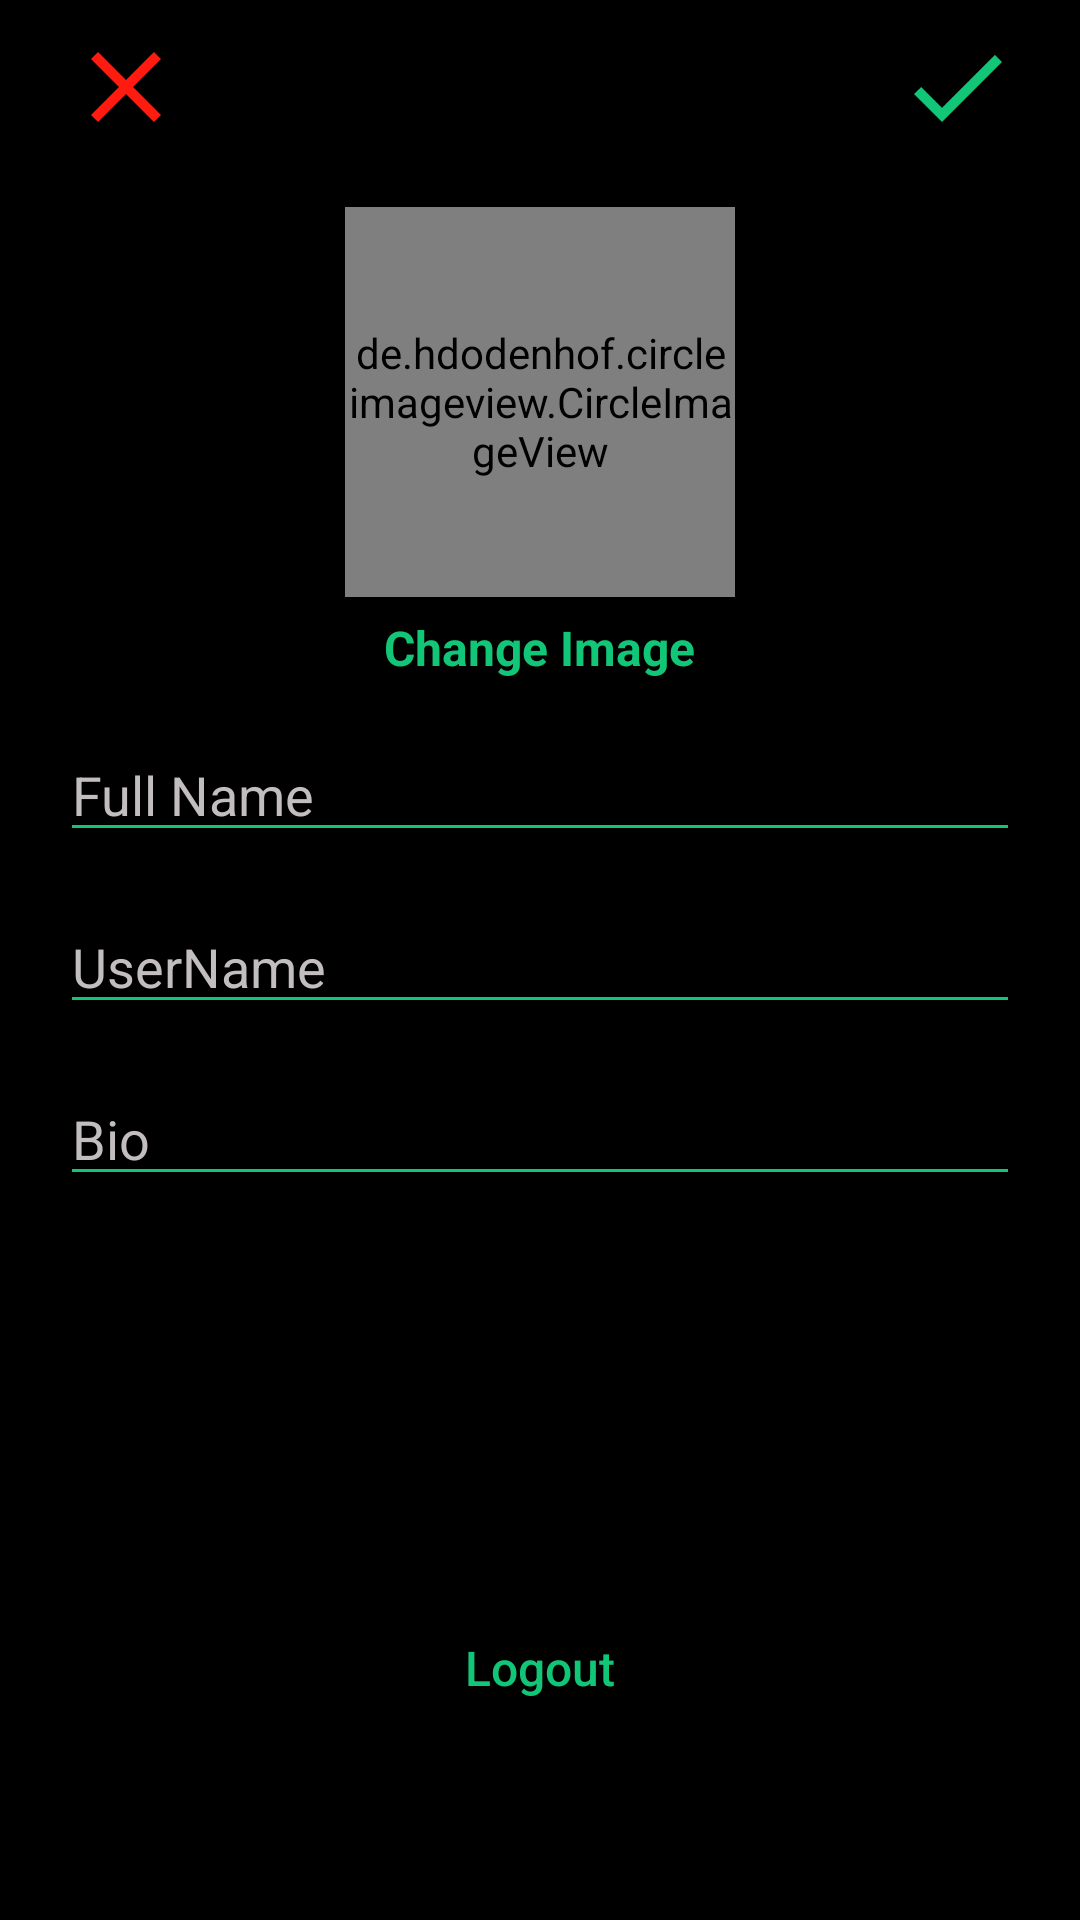

Named icons in this screenshot (1080 x 1920) and their bounding boxes, (x1, y1, x2, y2):
check: (914, 55, 1002, 122)
close: (91, 52, 161, 122)
